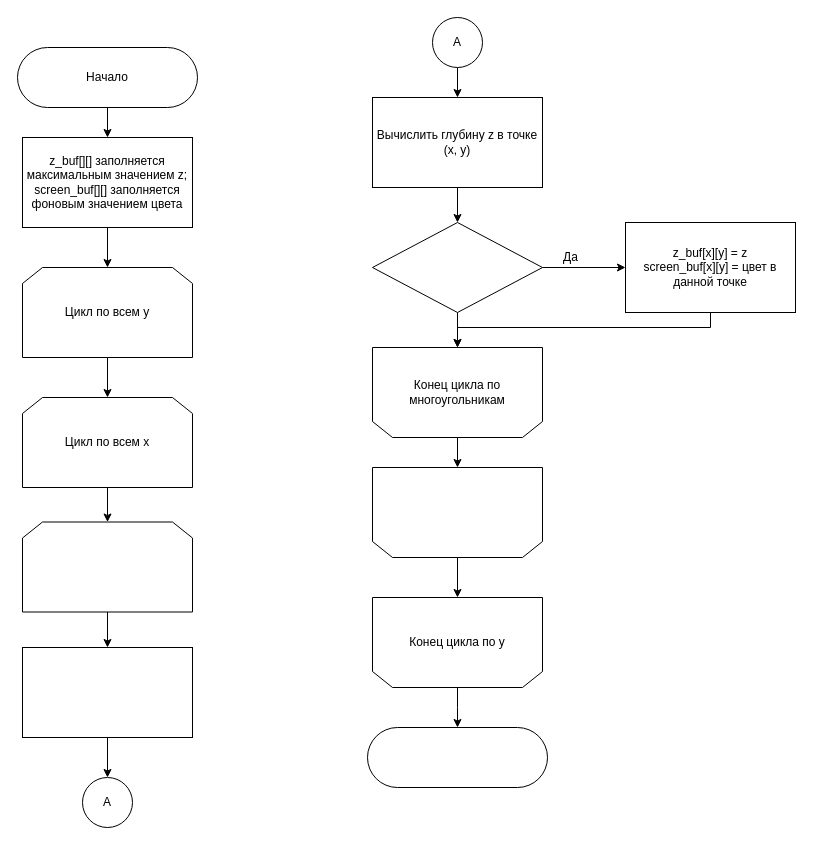
This 813x845 diagram has some shape labels left out. Each missing label, with the box of its shape:
z <= z_buf[x][y]: (372, 222, 542, 312)
Конец: (366, 726, 548, 788)
Конец цикла по х: (372, 466, 542, 558)
Преобразовать треугольник в растровую форму: (22, 646, 192, 738)
Цикл по всем треугольникам: (22, 521, 192, 612)
